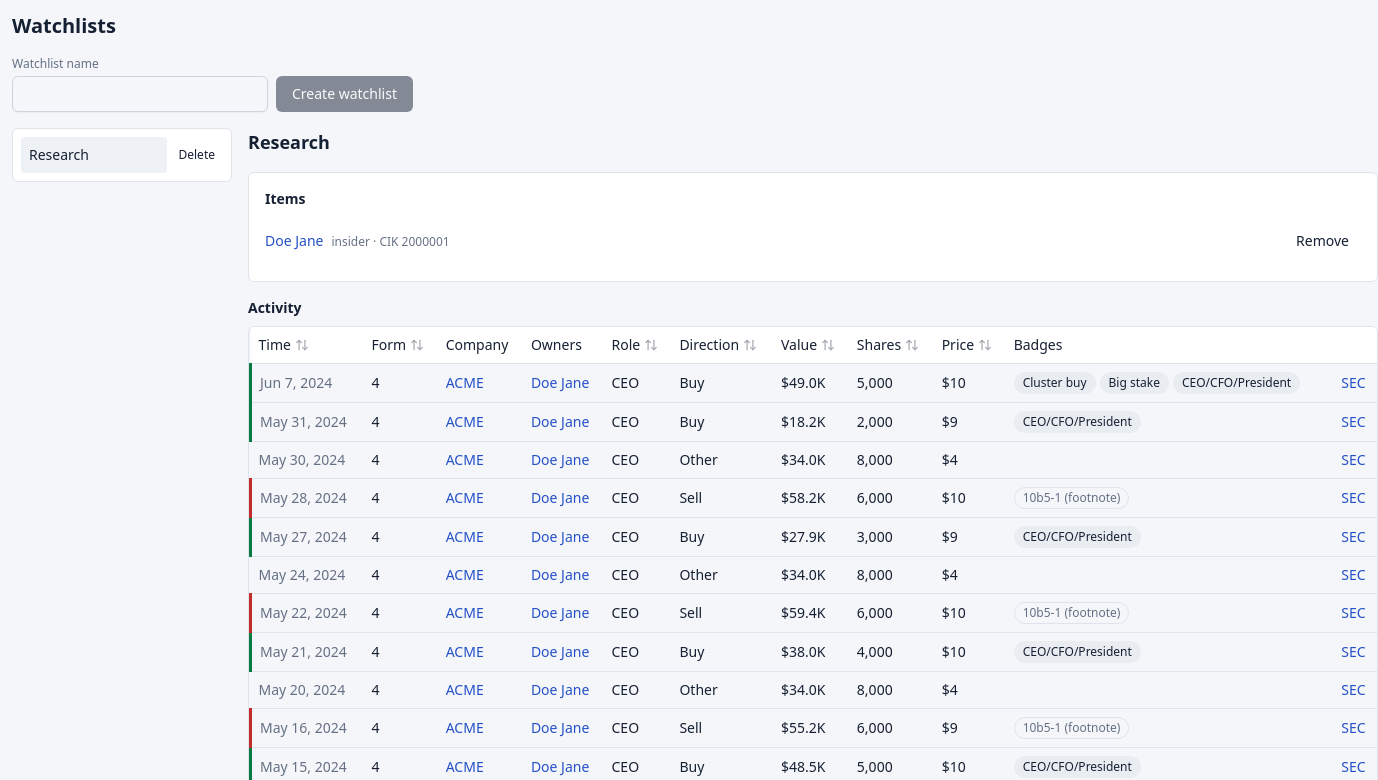
Test case: failed item removal leaves the item visible
Click the button with aria-label "Remove Doe Jane" at coordinates (1323, 241), box [1284,225,1361,257]
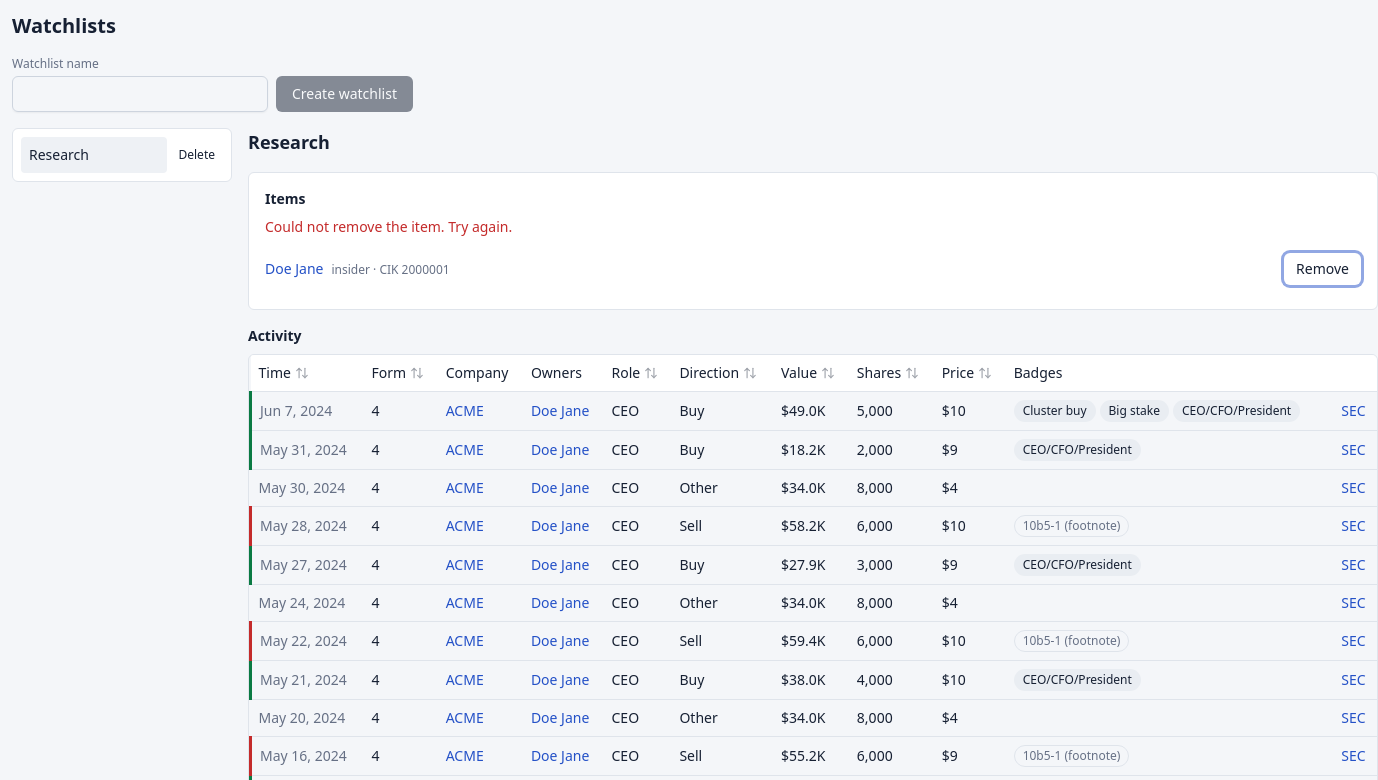
Expected: the link "Doe Jane" next to "insider" is shown, [265,259,324,278]
Now the message shows "Could not remove the item", box [265,217,512,236]
